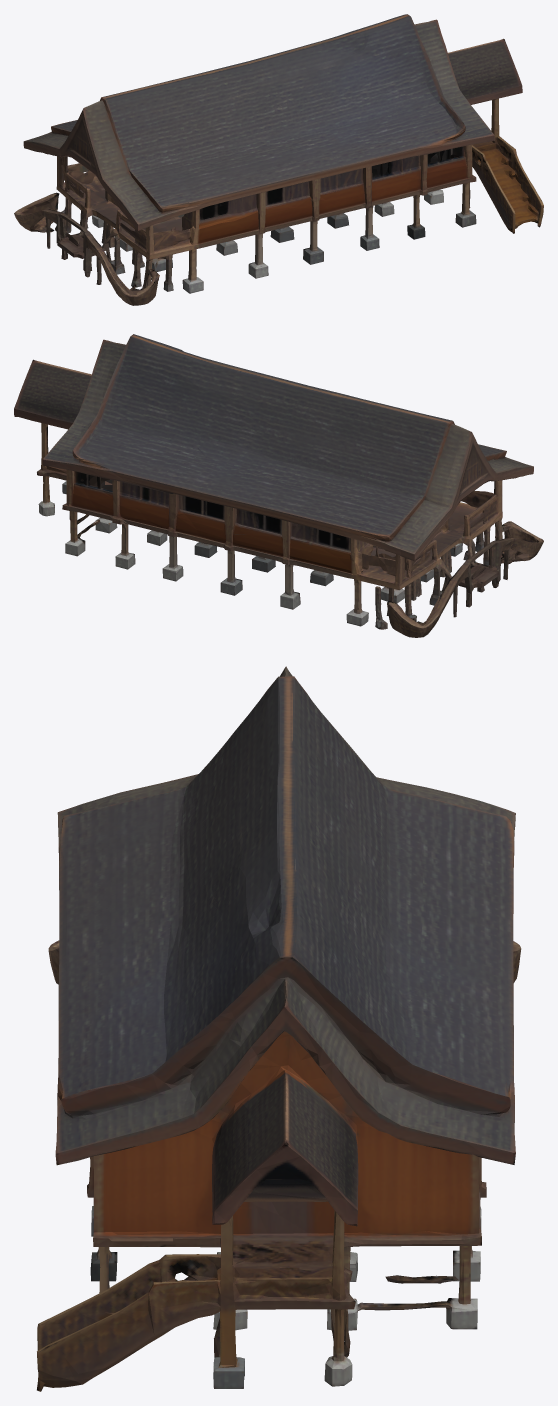
Rendered from kalimantan-selatan.glb.
3 renders of one model, top to bottom at view 1: azimuth 30°, elevation 25°; view 2: azimuth 150°, elevation 25°; view 3: azimuth 270°, elevation 25°, orthographic. The views are drawn at different scales.
Visible parts, largest first — view 1: world; view 2: world; view 3: world.
Boxes of the visible parts, <box> form: world: <box>14,14,543,305</box>; world: <box>14,334,543,637</box>; world: <box>37,666,521,1391</box>.
Bounding box in the file's own units: 0.6993 × 0.293 × 0.334.
Materials: 1 (1 with a texture image).
